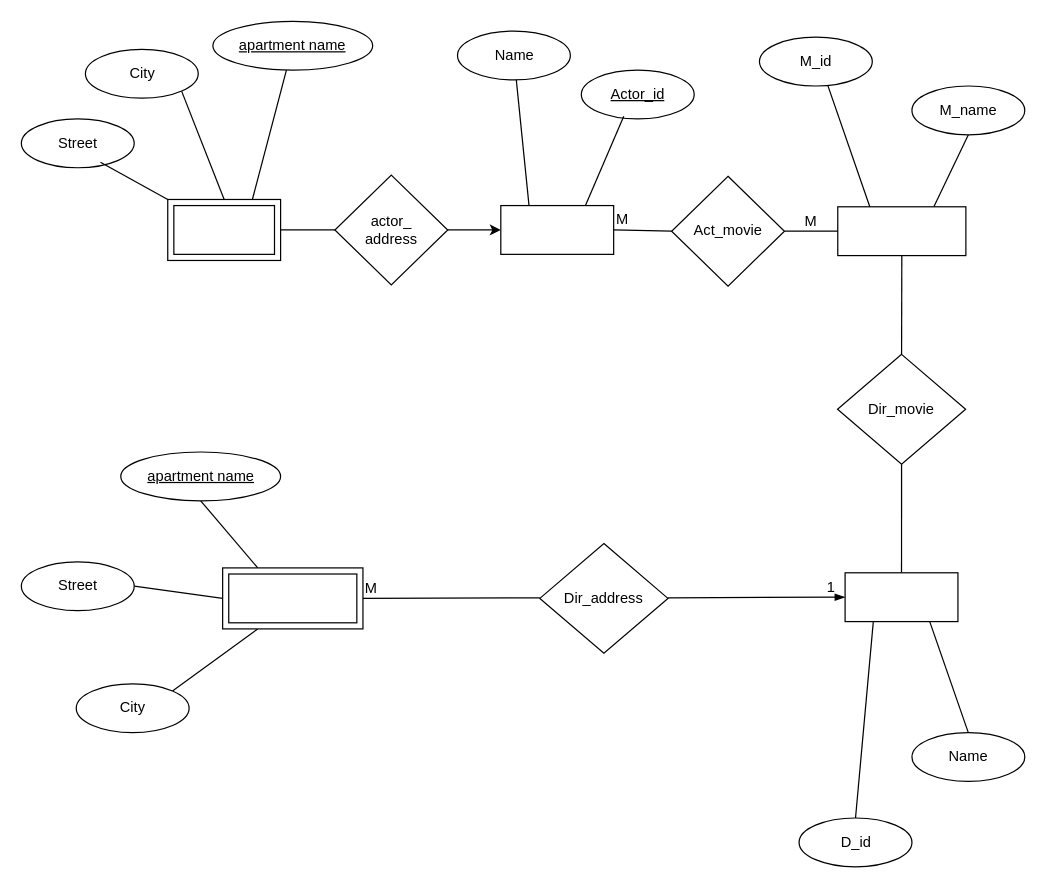
The diagram is 1047 pixels wide and 888 high, and some of its shapes have lost their labels. Each missing label, with the centre of its shape:
"Actor" belongs at (557,229).
"Actor Address" belongs at (224,229).
"Director" belongs at (901,597).
"Director_address" belongs at (292,598).
"Movie" belongs at (901,231).
